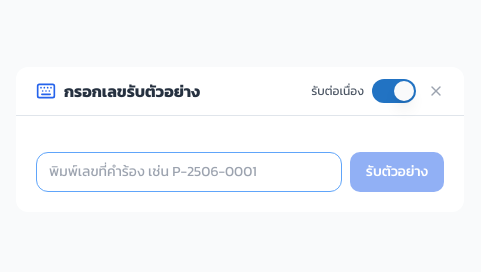
Test: round-specific scanners › qc rejects already received round
Step 1. Type "LIS-EXTRA-11111111-1111-4111-8111-111111111111" into the field with placeholder "พิมพ์เลขที่คำร้อง เช่น P-2506-0001" → (189, 172), box [36, 152, 342, 192]
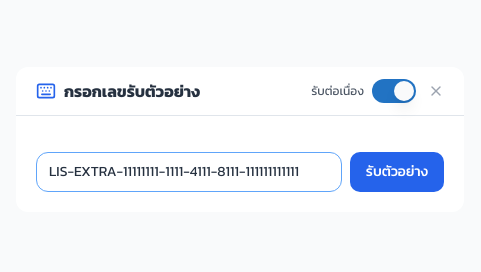
Step 2. Click the button "รับตัวอย่าง" → (397, 172), box [350, 152, 444, 192]
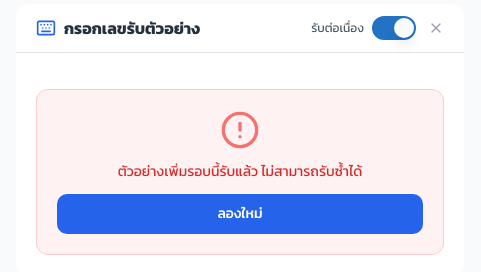
Result: the text "ตัวอย่างเพิ่มรอบนี้รับแล้ว ไม่สามารถรับซ้ำได้" is shown at [118, 160, 362, 182]
